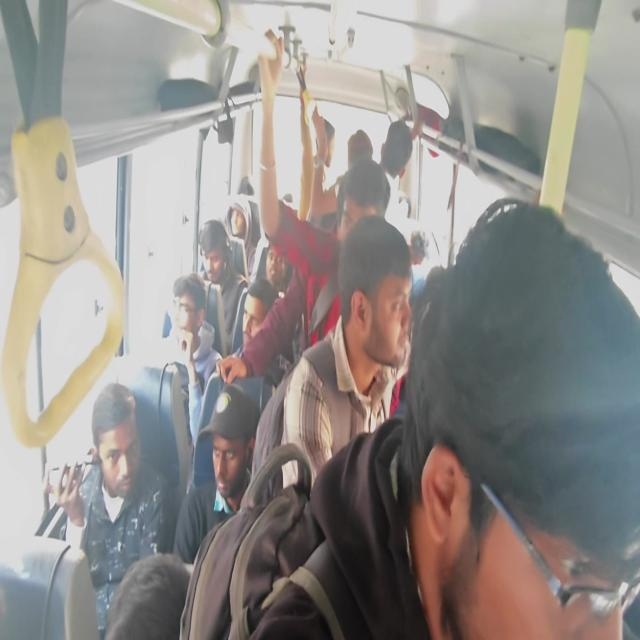person: (14, 23, 637, 638), (396, 196, 639, 639), (215, 28, 414, 386), (251, 214, 414, 496), (46, 381, 175, 638), (172, 383, 258, 563), (165, 272, 223, 448), (103, 551, 192, 639), (217, 277, 289, 385), (198, 218, 249, 353), (224, 194, 258, 277)
